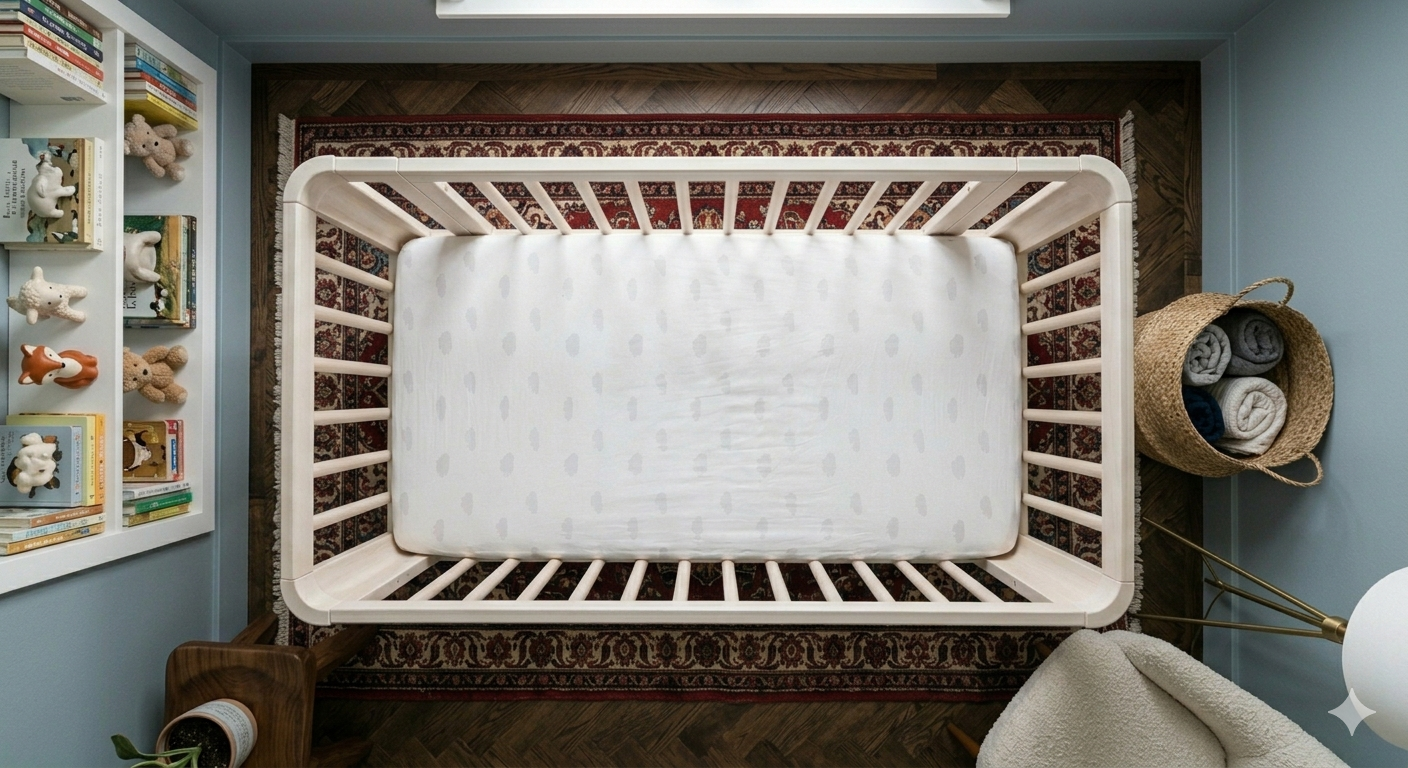crib: (280, 156, 1135, 626)
